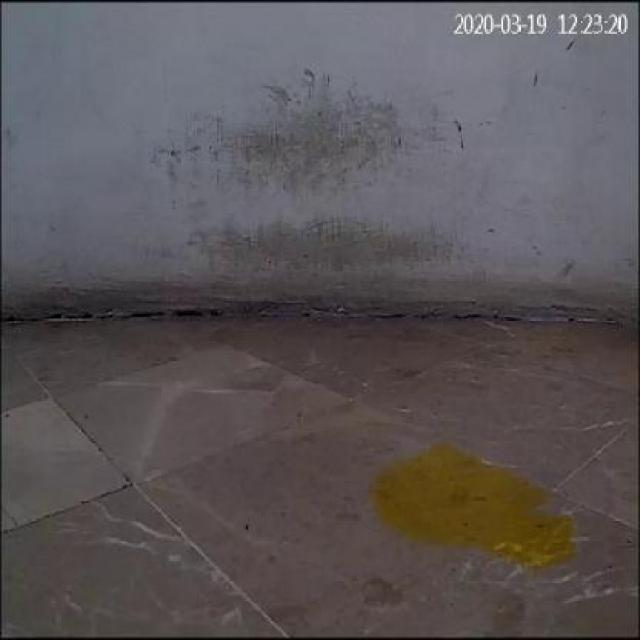spill: (366, 444, 580, 570)
